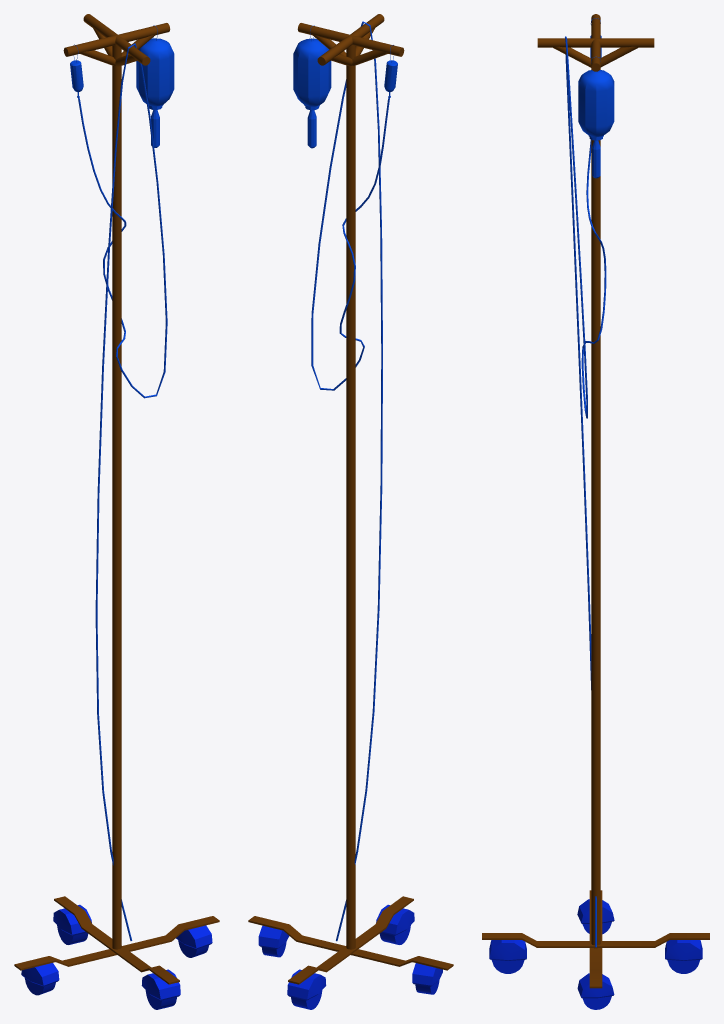
File: IV_drip.fbx
3 renders of one model, left to right at view 1: azimuth 30°, elevation 25°; view 2: azimuth 150°, elevation 25°; view 3: azimuth 270°, elevation 25°, orthographic.
Parts seen in each view (by area): view 1: IV_Drop; view 2: IV_Drop; view 3: IV_Drop.
Boxes of the visible parts, x1,y1,x2,y2 form: IV_Drop: [14, 14, 219, 1009]; IV_Drop: [248, 14, 453, 1009]; IV_Drop: [482, 14, 709, 1009].
Size of the model in its own units: 0.4542 by 2.05 by 0.4542.
